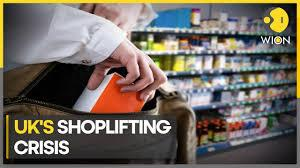shoplifting: (17, 11, 230, 158)
